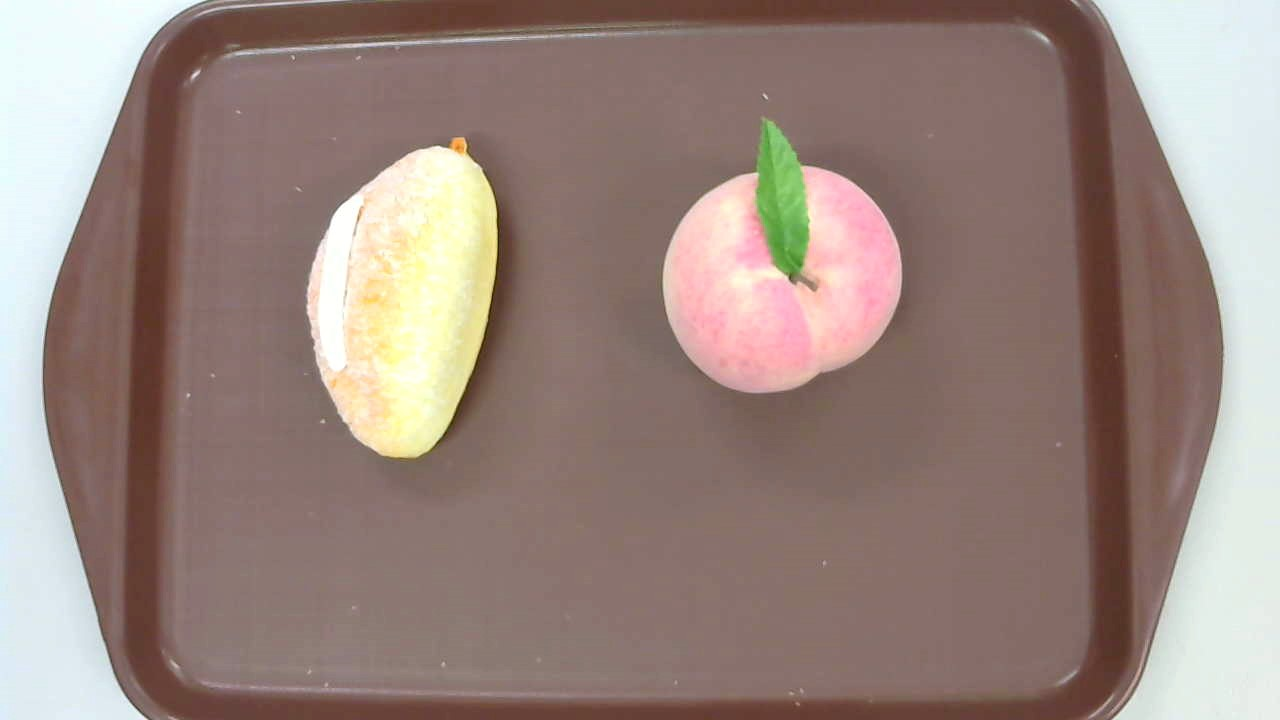coconut: (304, 136, 497, 460)
peach: (661, 117, 902, 395)
